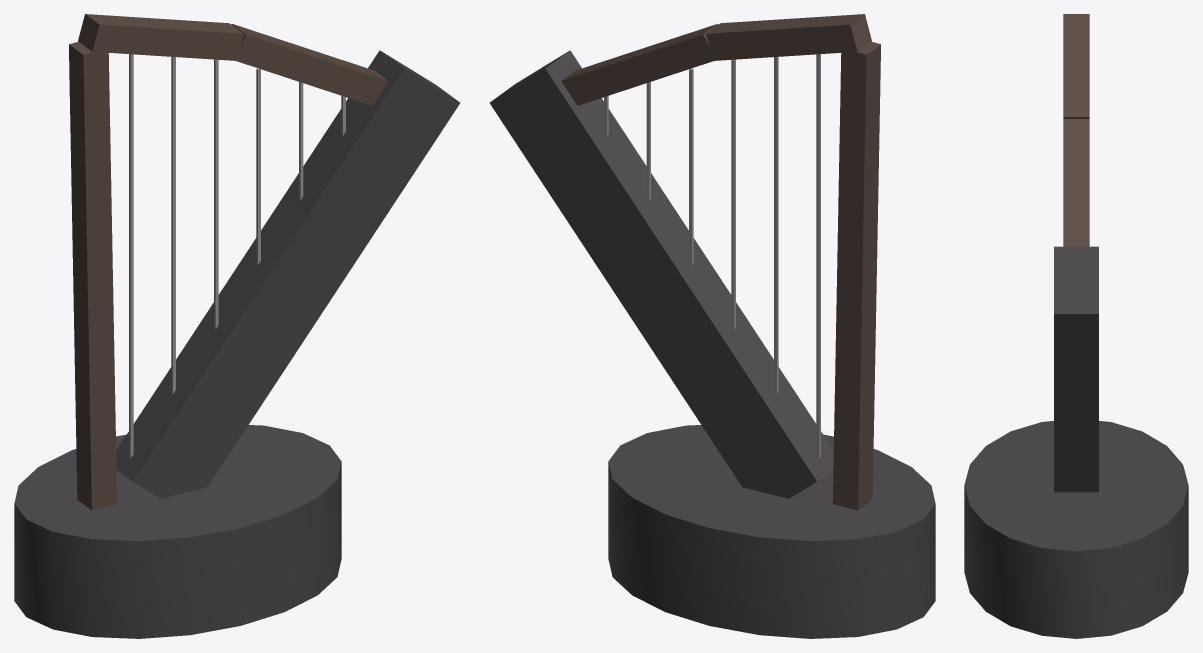
Rendered from Building_Harp.obj.
3 views of the same model, side by side, from view 1: azimuth 30°, elevation 25°; view 2: azimuth 150°, elevation 25°; view 3: azimuth 270°, elevation 25° (orthographic). The views are drawn at different scales.
Visible parts, largest first — view 1: Body; view 2: Body; view 3: Body.
Boxes of the visible parts, x1=… form: Body: x1=14, y1=14, x2=460, y2=638; Body: x1=489, y1=14, x2=935, y2=638; Body: x1=964, y1=14, x2=1188, y2=638.
Bounding box in the file's own units: 1.17 × 1.54 × 0.6.
1 material, 1 textured.
